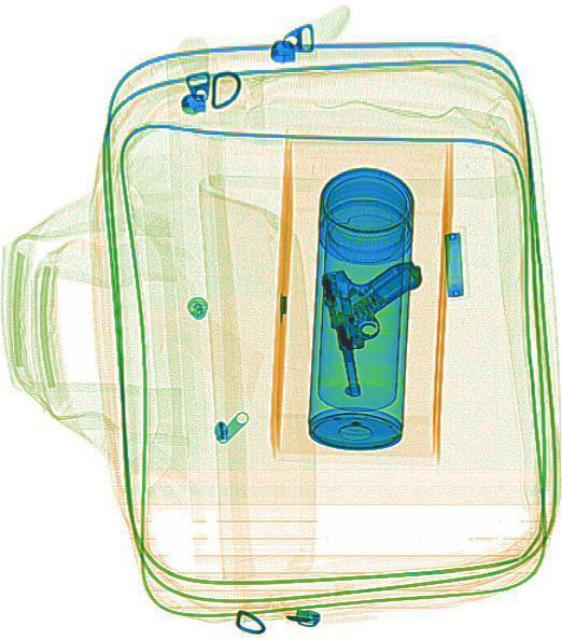Gun: (314, 252, 439, 398)
